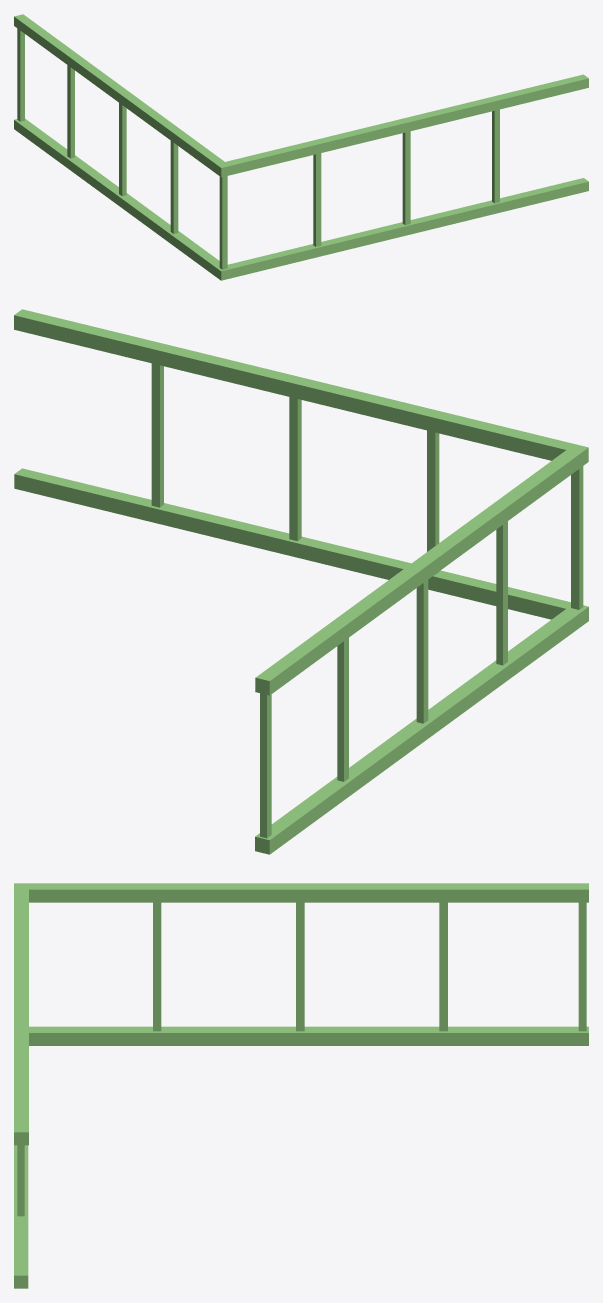
Rendered from Platform_Rail_Corner.fbx.
3 views of the same model, one above another, from view 1: azimuth 30°, elevation 25°; view 2: azimuth 150°, elevation 25°; view 3: azimuth 270°, elevation 25° (orthographic). The views are drawn at different scales.
Parts seen in each view (by area): view 1: Platform_Rail_Corner; view 2: Platform_Rail_Corner; view 3: Platform_Rail_Corner.
Part boxes in pixels (x1=…): Platform_Rail_Corner: x1=14, y1=14, x2=588, y2=280; Platform_Rail_Corner: x1=14, y1=309, x2=588, y2=854; Platform_Rail_Corner: x1=14, y1=883, x2=588, y2=1288.
Size of the model in its own units: 308 by 90 by 300.
